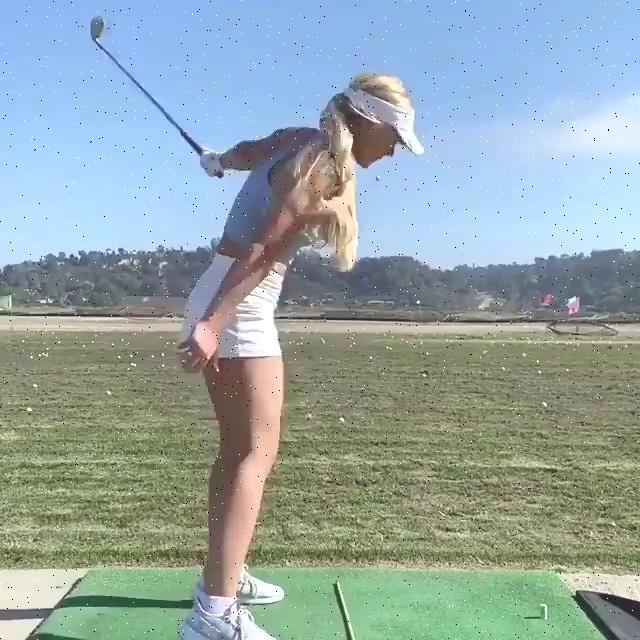ClubHead: (90, 18, 104, 39)
